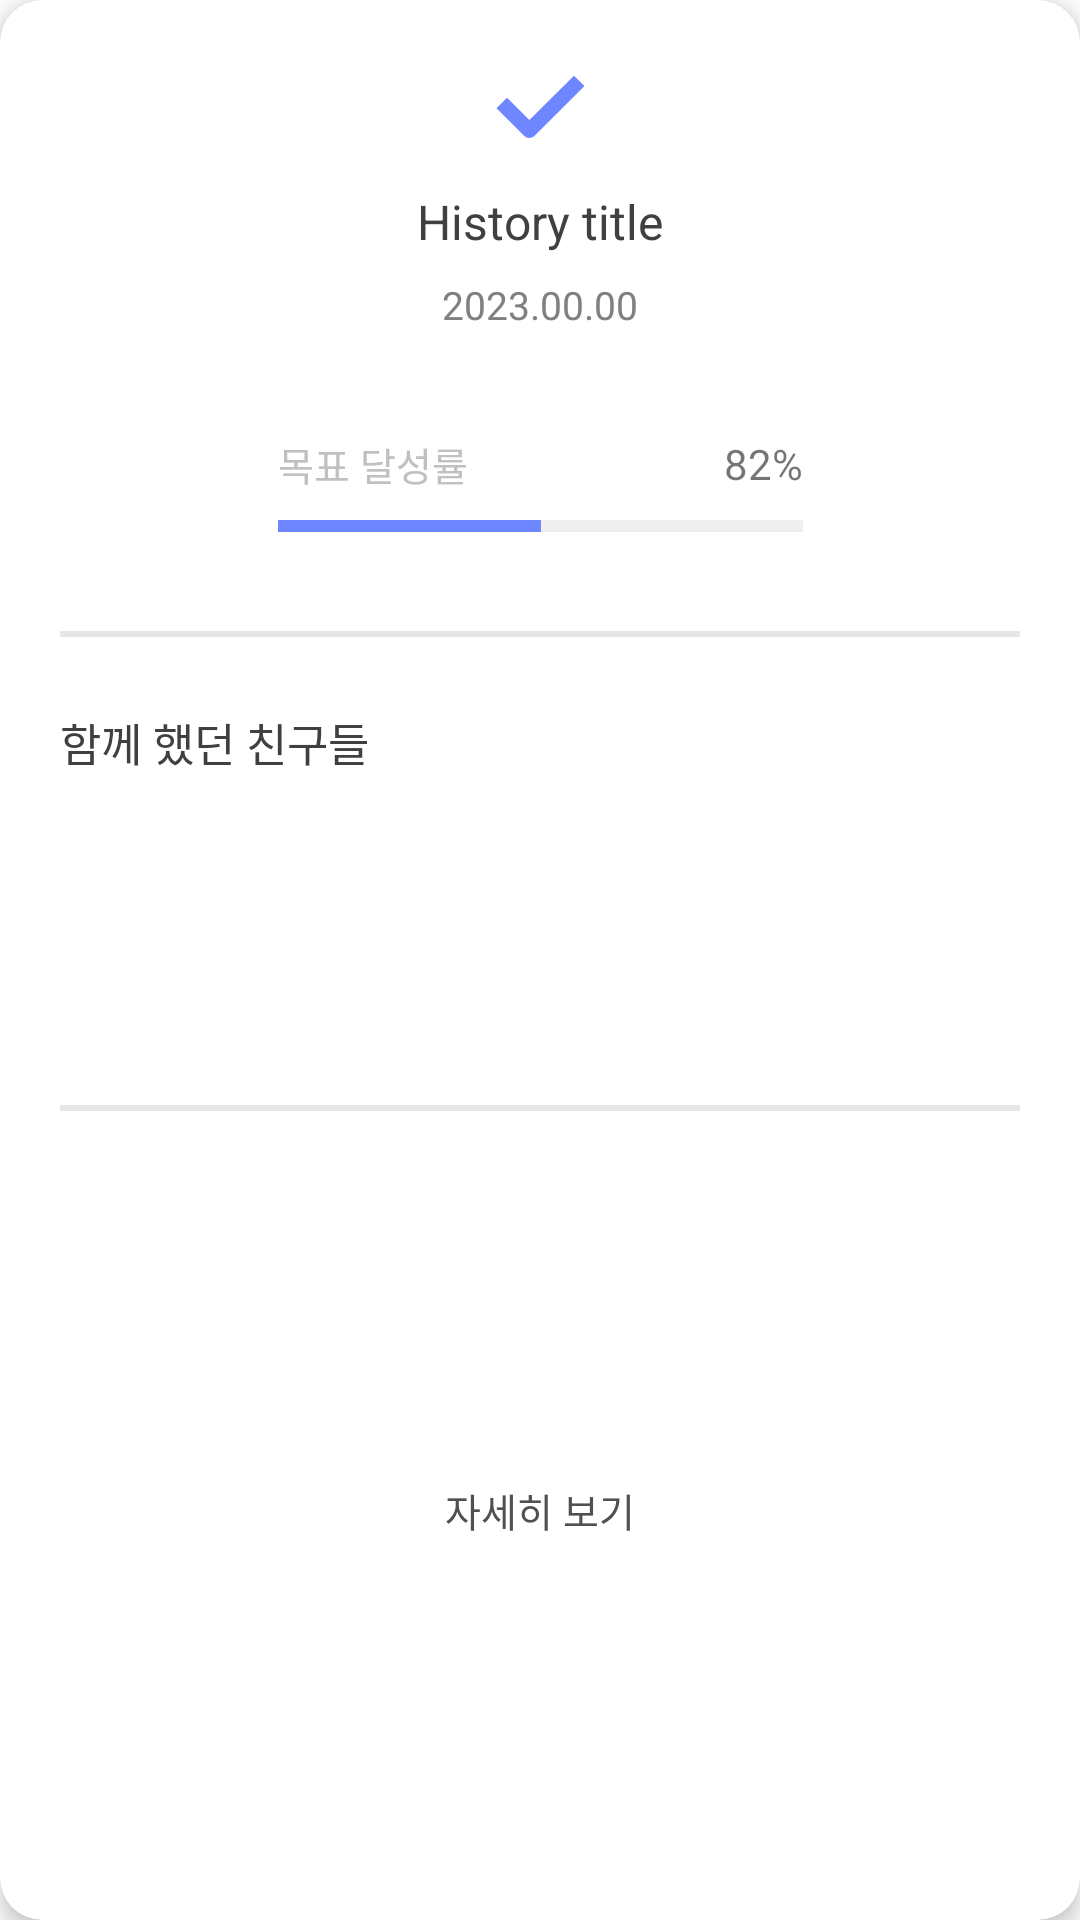

Named icons in this screenshot (1080w x 1920h) and their centers, [x,y]:
history check: [540,107]
